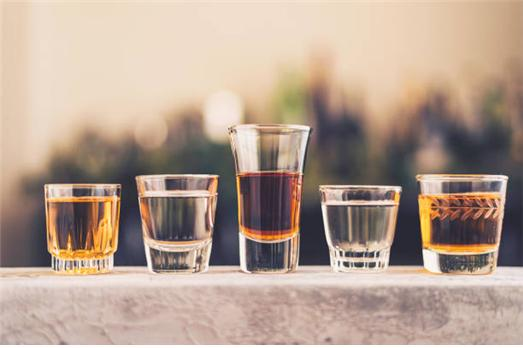alcohol: (227, 123, 311, 272), (416, 174, 506, 277), (136, 174, 216, 275), (41, 182, 121, 274), (319, 183, 399, 271)
